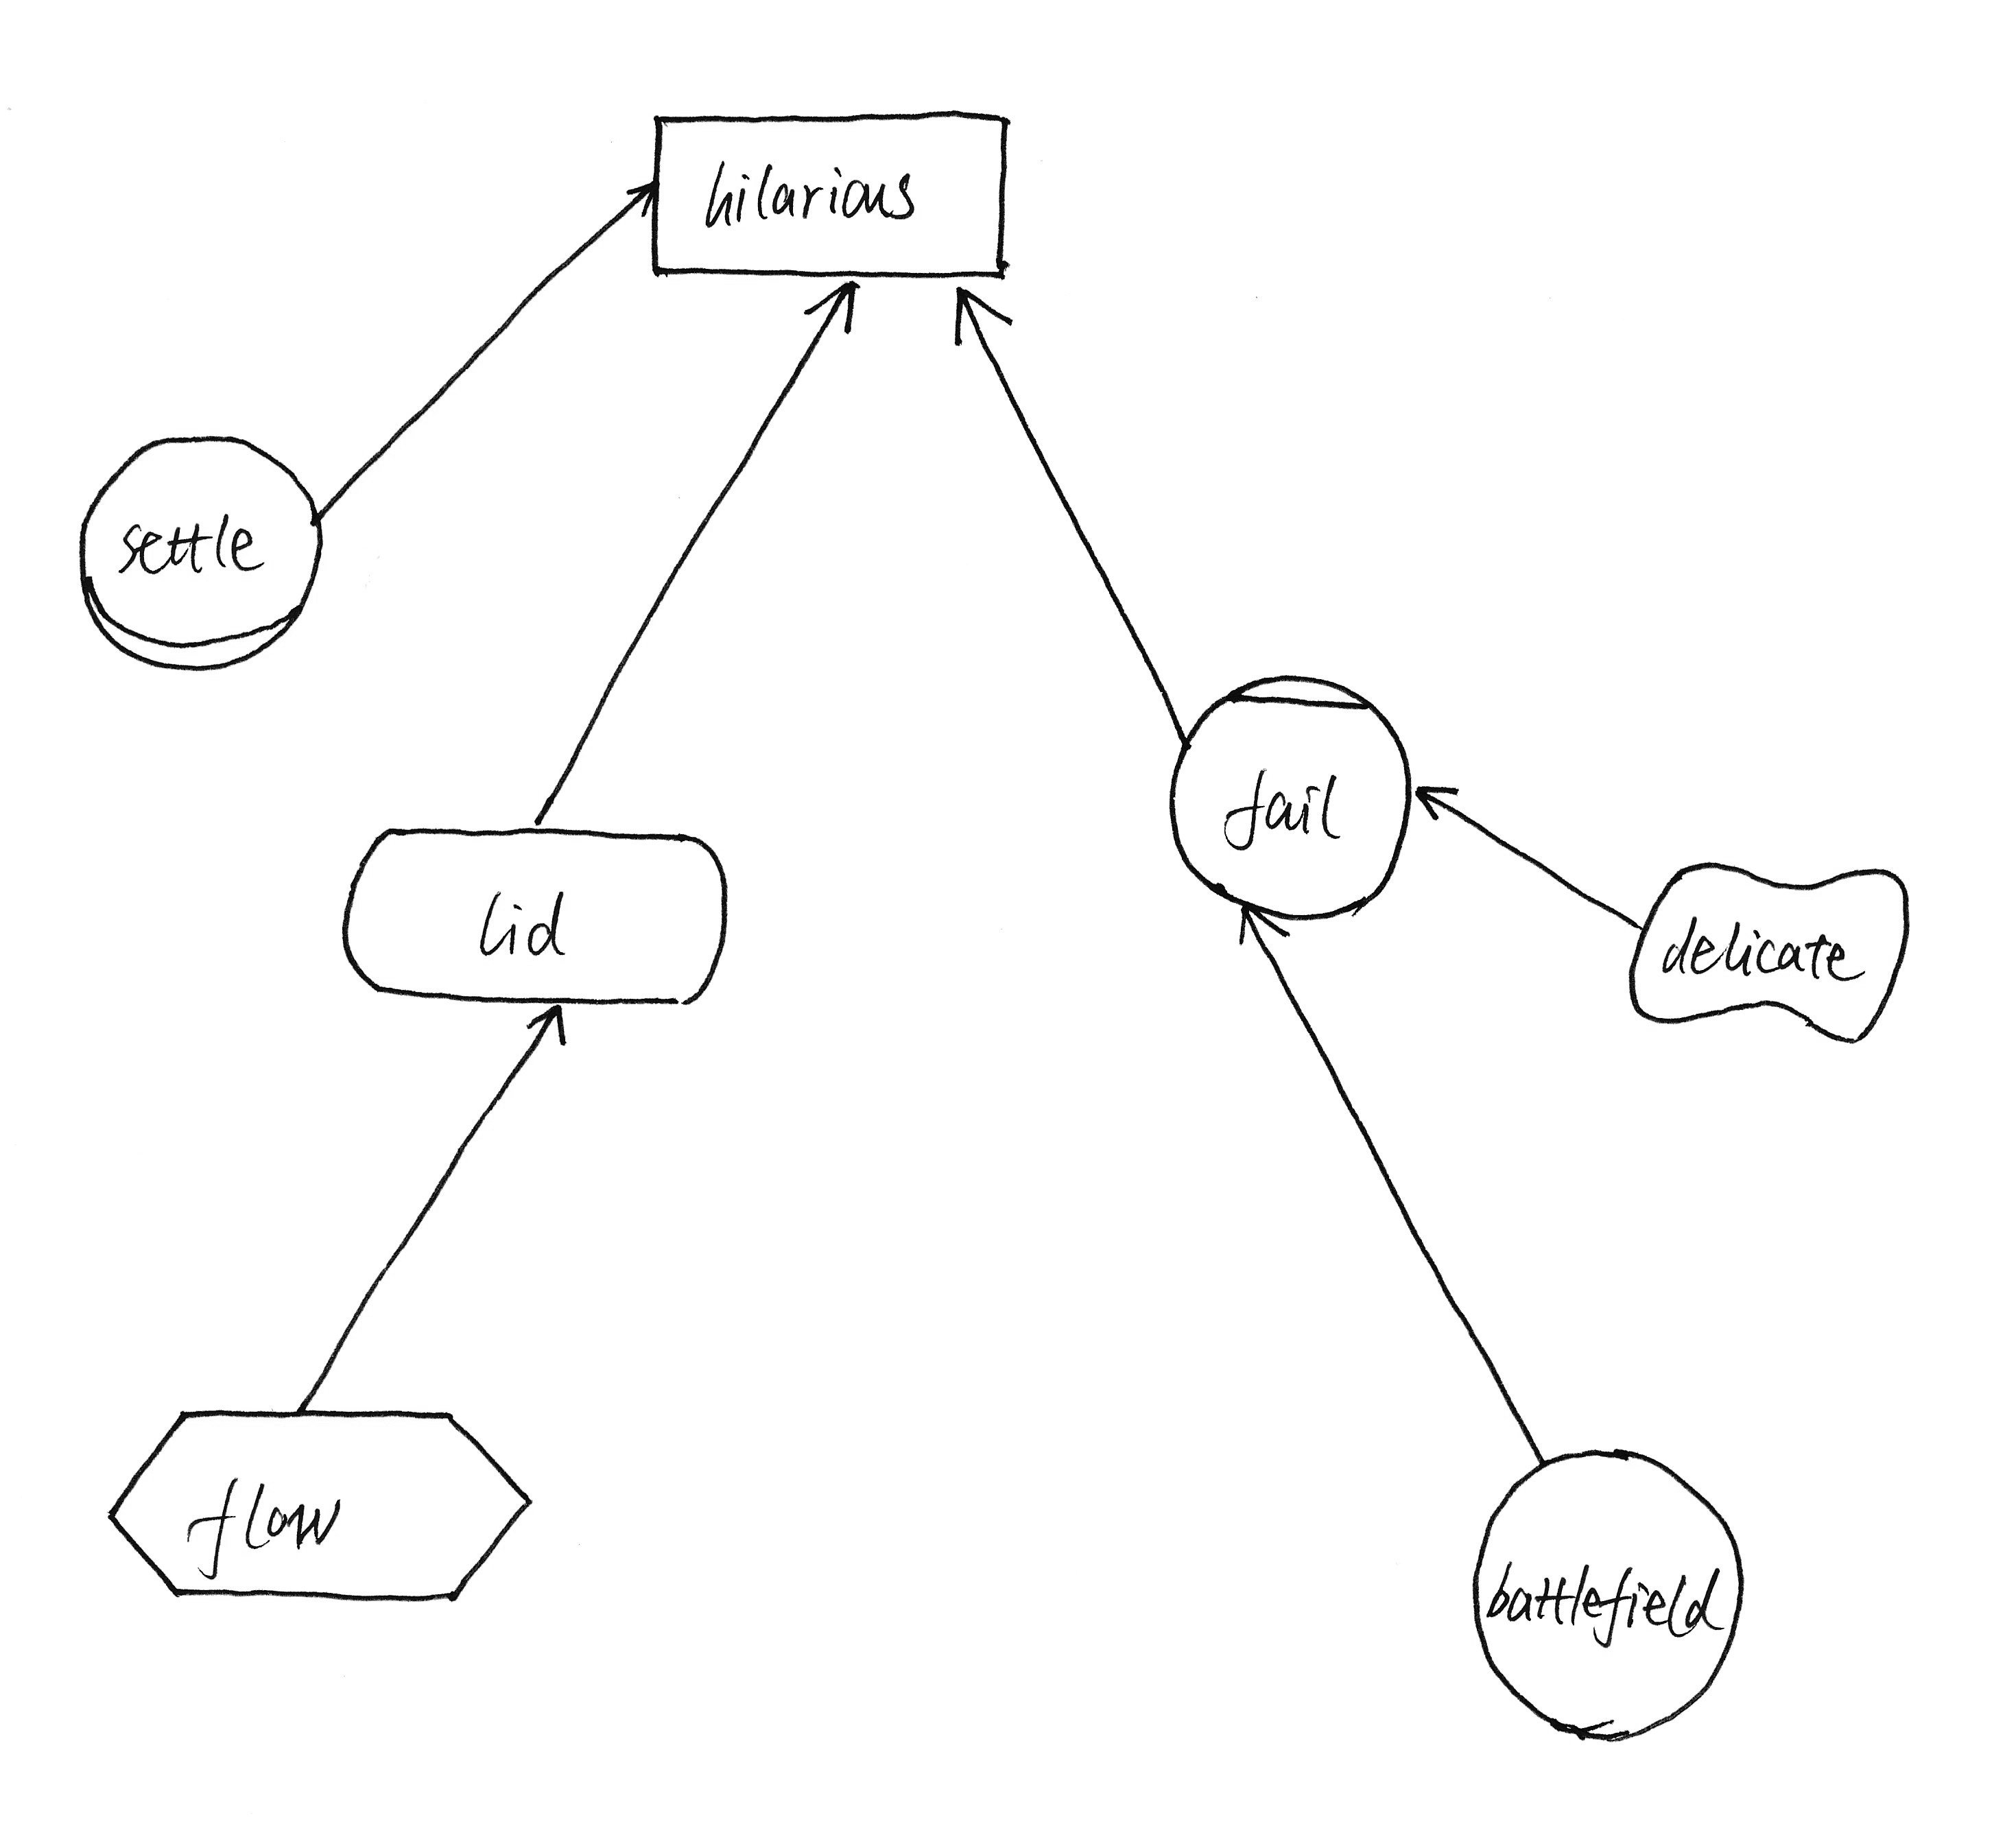actor: (1456, 1434, 1756, 1761)
agent: (1159, 657, 1424, 928)
arrow: (931, 278, 1024, 360), (783, 272, 875, 350), (1407, 757, 1470, 835), (1224, 896, 1298, 956), (508, 998, 581, 1058), (609, 165, 664, 232)
goal: (328, 812, 736, 1021)
quality: (1614, 850, 1930, 1059)
resource: (634, 90, 1034, 297)
role: (65, 420, 341, 689)
task: (90, 1390, 548, 1616)
